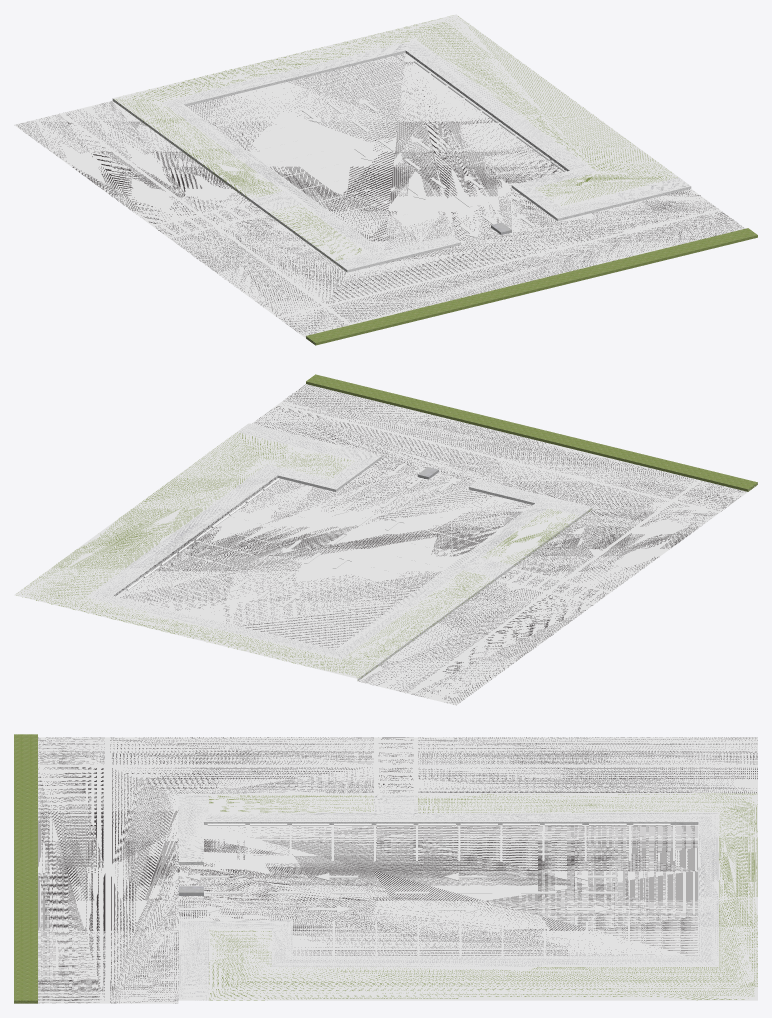
The picture shows the model from 3 angles, top to bottom: view 1: azimuth 30°, elevation 25°; view 2: azimuth 150°, elevation 25°; view 3: azimuth 270°, elevation 25°; orthographic projection. The views are drawn at different scales.
Parts seen in each view (by area): view 1: SketchUp (×11); view 2: SketchUp (×11); view 3: SketchUp (×11).
Part boxes in pixels (x1,y1,x2,y2): SketchUp (×11): (14, 14, 757, 345); SketchUp (×11): (14, 374, 757, 705); SketchUp (×11): (14, 734, 757, 1003).
Size of the model in its own units: 1615 by 1907 by 8.7.
